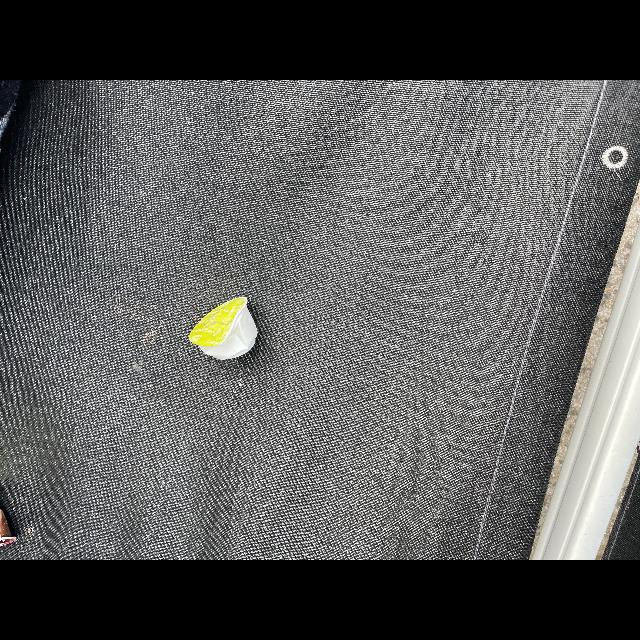damaged_capsule: (179, 284, 275, 368)
